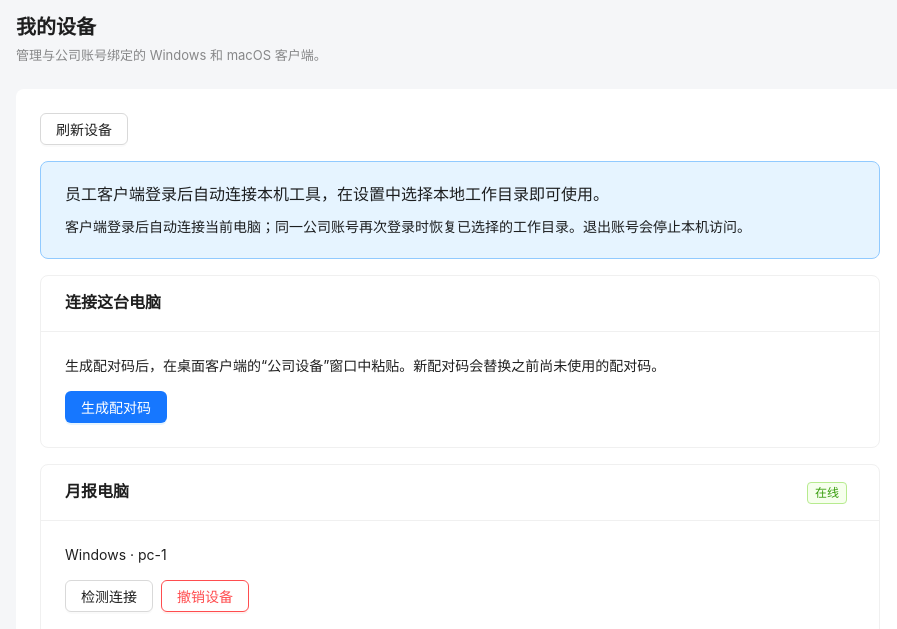
it: company devices › revokes only the selected device and refreshes its status
Click the button "撤销设备" at (205, 596), box [161,580,249,612]
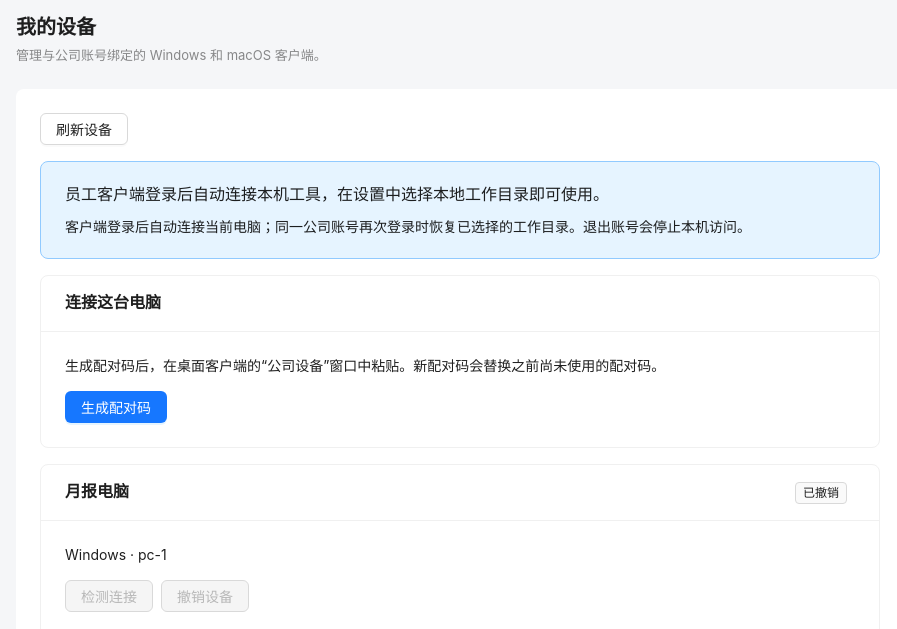
Expected: the text "已撤销" is shown, [795,482,847,504]
Expected: the button "检测连接" is disabled, [65,580,153,612]
